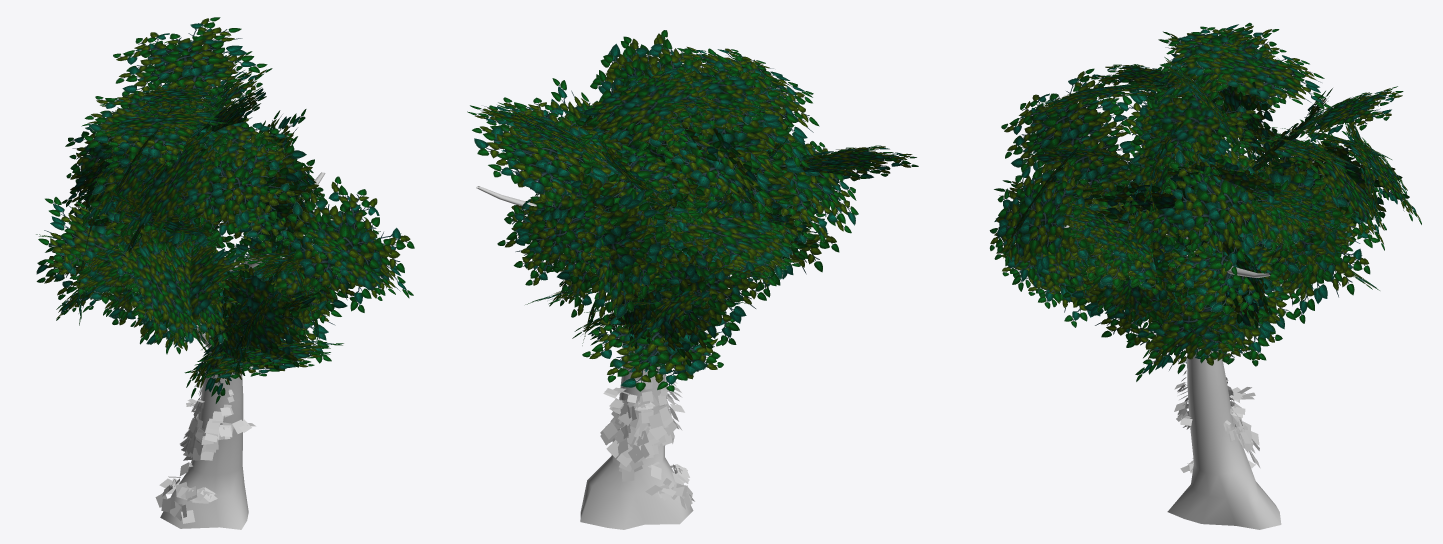
Rendered from tree2.FBX.
The picture shows the model from 3 angles, left to right: view 1: azimuth 30°, elevation 25°; view 2: azimuth 150°, elevation 25°; view 3: azimuth 270°, elevation 25°; orthographic projection. The views are drawn at different scales.
Parts seen in each view (by area): view 1: tree2_3, tree2_1, tree2_2; view 2: tree2_3, tree2_1, tree2_2; view 3: tree2_3, tree2_1, tree2_2.
Part boxes in pixels (x1,y1,x2,y2): tree2_3: (36, 17, 414, 403); tree2_1: (160, 172, 325, 529); tree2_2: (155, 382, 255, 523); tree2_3: (467, 30, 918, 391); tree2_1: (476, 186, 693, 529); tree2_2: (600, 373, 694, 509); tree2_3: (989, 22, 1421, 381); tree2_1: (1064, 225, 1281, 529); tree2_2: (1174, 370, 1260, 473).
Size of the model in its own units: 238 by 310 by 275.
